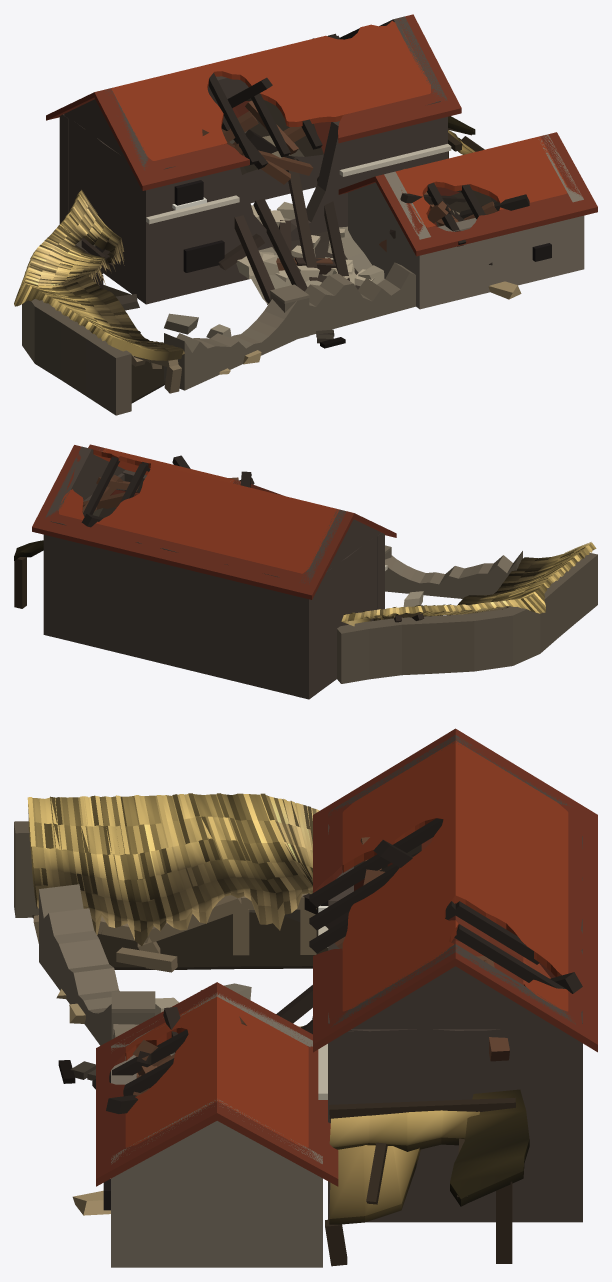
File: VerBuild05a.glb
The picture shows the model from 3 angles, top to bottom: view 1: azimuth 30°, elevation 25°; view 2: azimuth 150°, elevation 25°; view 3: azimuth 270°, elevation 25°; orthographic projection. The views are drawn at different scales.
Visible parts, largest first — view 1: VerBuild05a_roof; view 2: VerBuild05a_roof; view 3: VerBuild05a_roof.
Boxes of the visible parts, x1,y1,x2,y2 form: VerBuild05a_roof: (14, 14, 597, 415); VerBuild05a_roof: (14, 444, 597, 699); VerBuild05a_roof: (14, 728, 597, 1267).
Bounding box in the file's own units: 11.11 × 3.68 × 7.16.
